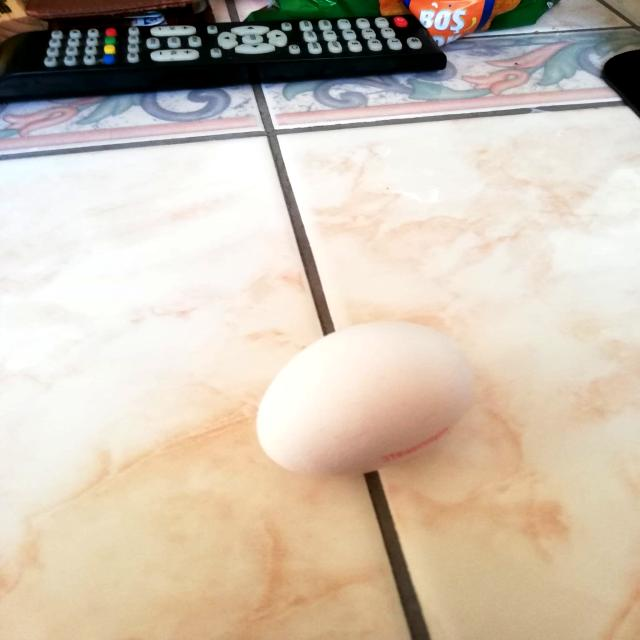egg: (249, 316, 482, 481)
